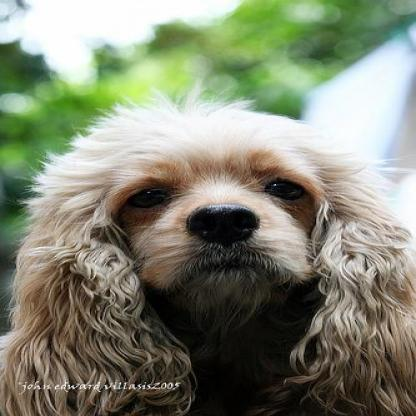cocker_spaniel: (0, 93, 412, 413)
